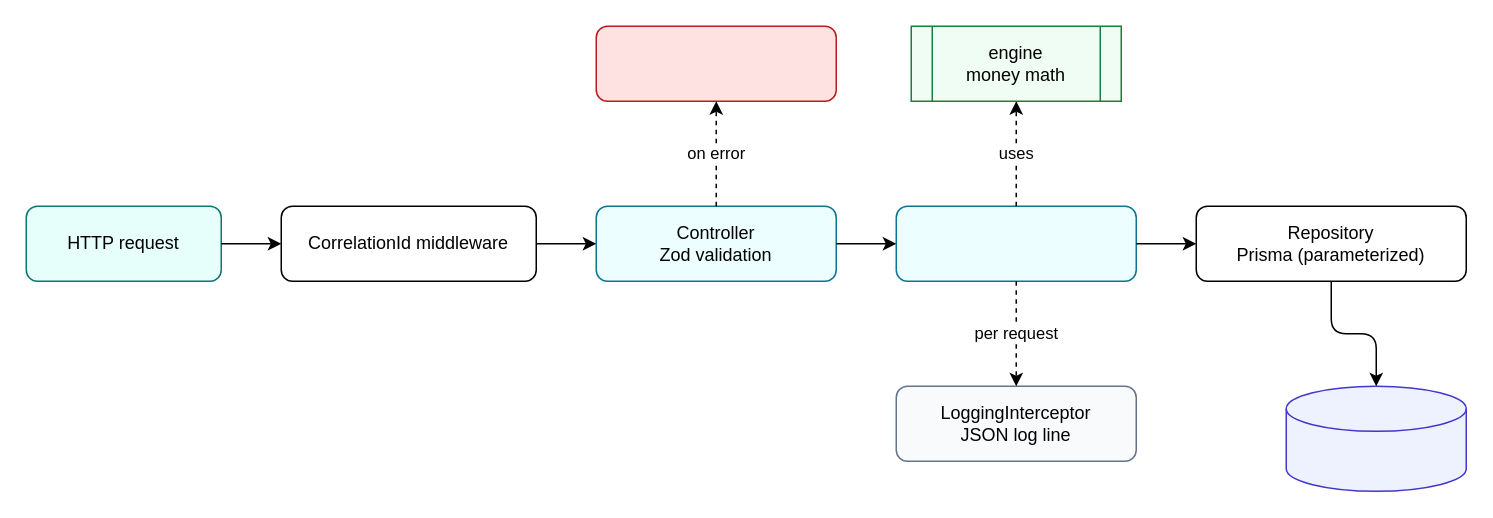
This 1493x518 diagram has some shape labels left out. Each missing label, with the centre of its shape:
PostgreSQL: (1375,438)
ProblemDetailsFilter RFC 7807 on error: (715,63)
Service business logic: (1015,243)
